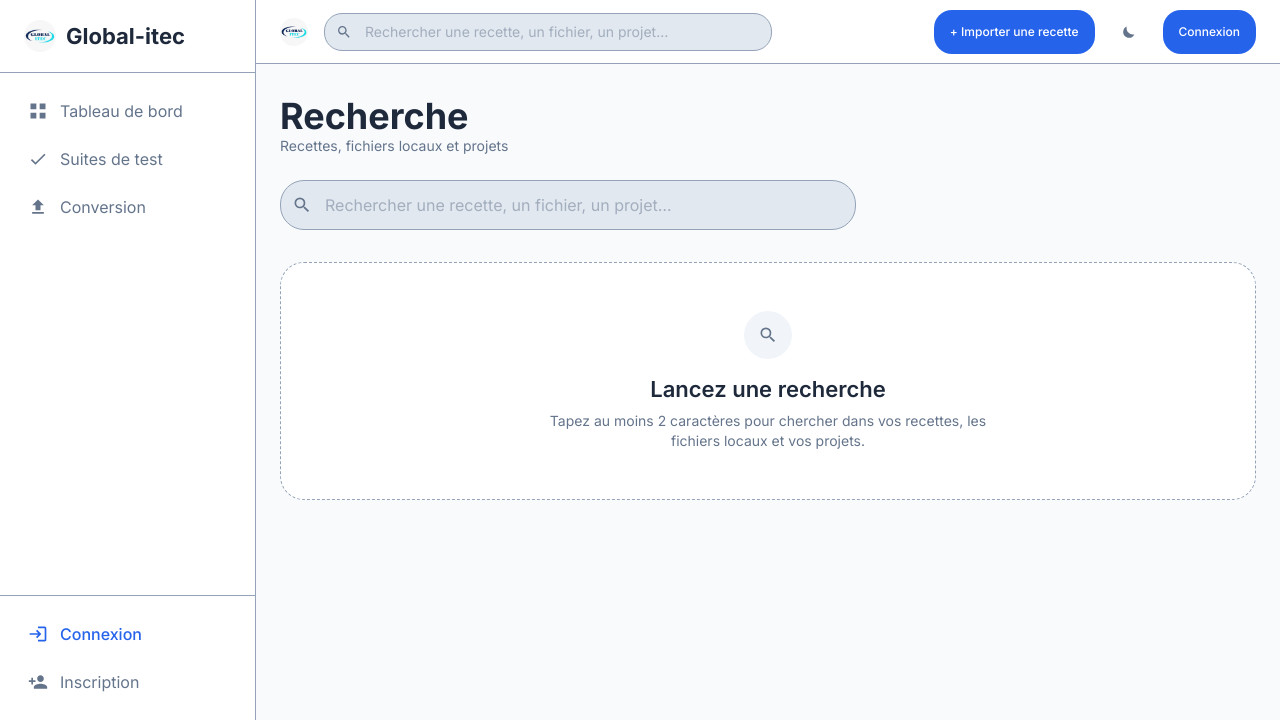
Test: SearchPage › requires at least 2 characters for file search
This screenshot has width=1280, height=720.
Type "a" into the search field named "Recherche globale". click: {"x": 568, "y": 205}
box: x1=280 y1=180 x2=856 y2=230
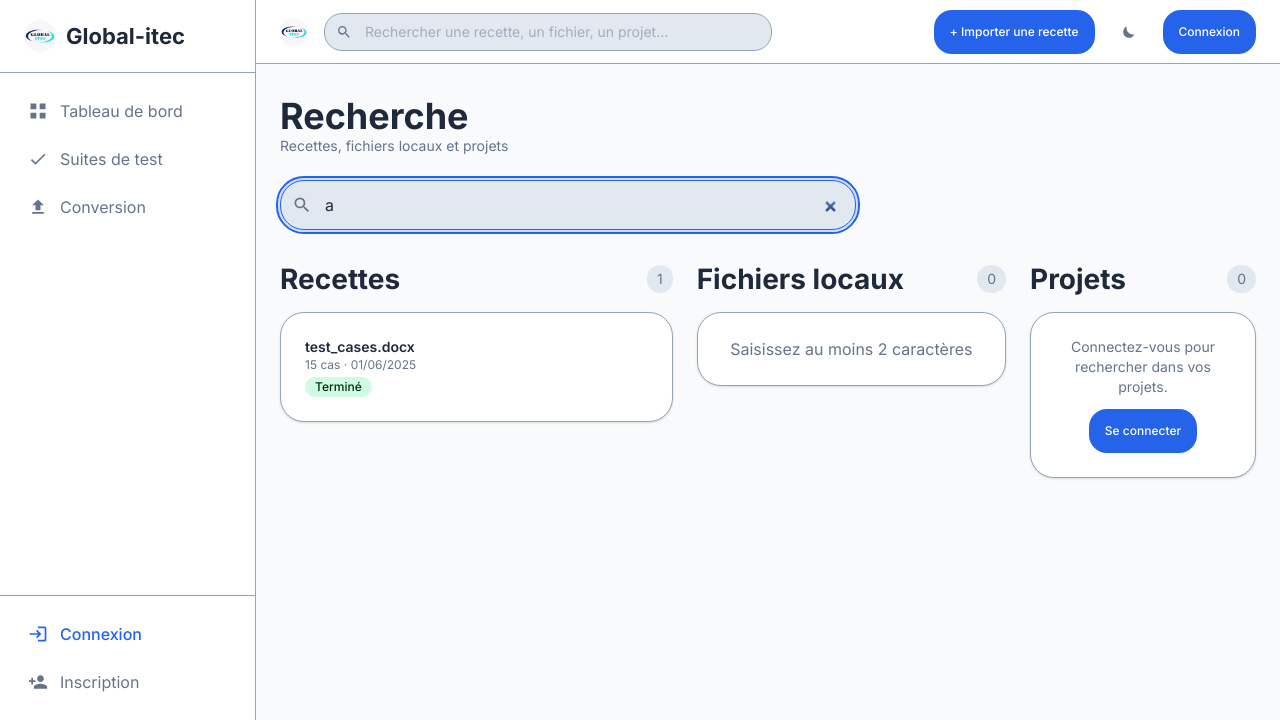
Check: the text "Saisissez au moins 2 caractères" is shown, box x1=697 y1=312 x2=1006 y2=386
